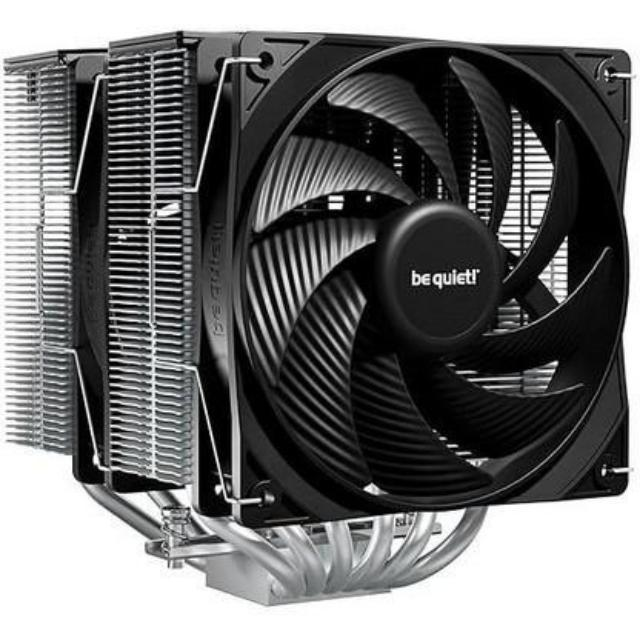CPU_Fan: (0, 21, 634, 601)
